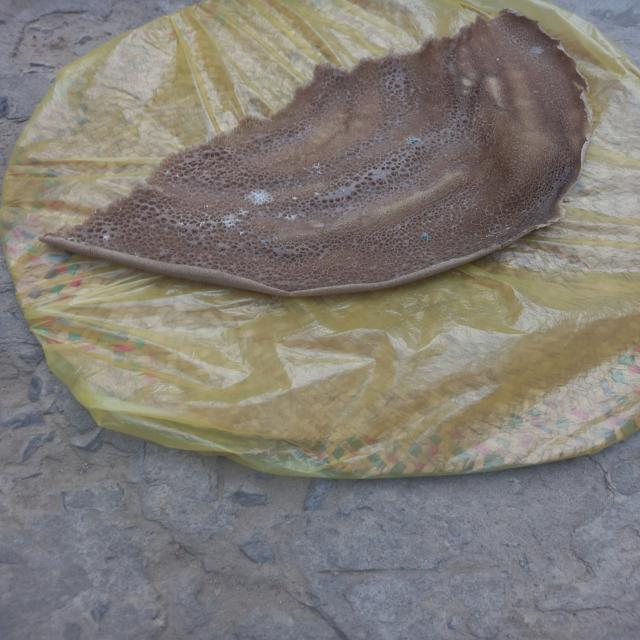injera_mold: (242, 184, 273, 208), (173, 218, 212, 235), (215, 210, 242, 232), (302, 160, 328, 178), (526, 44, 546, 58), (403, 135, 422, 147), (100, 229, 116, 243), (280, 212, 300, 222), (419, 230, 433, 242)
